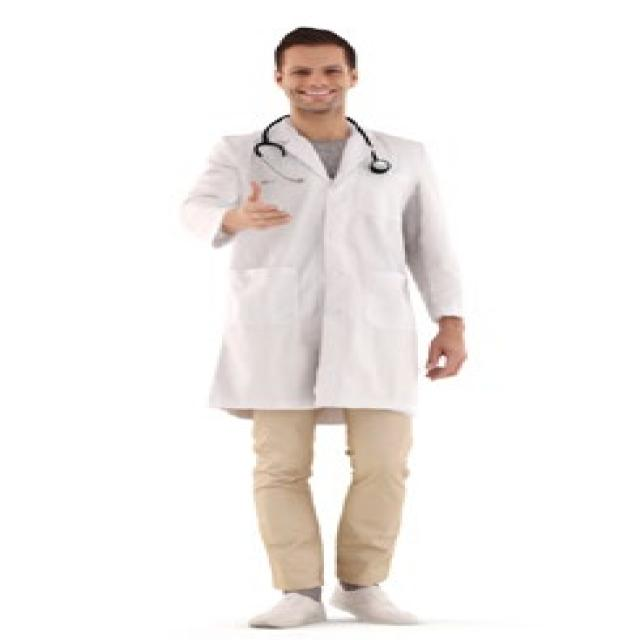standing: (176, 21, 464, 635)
